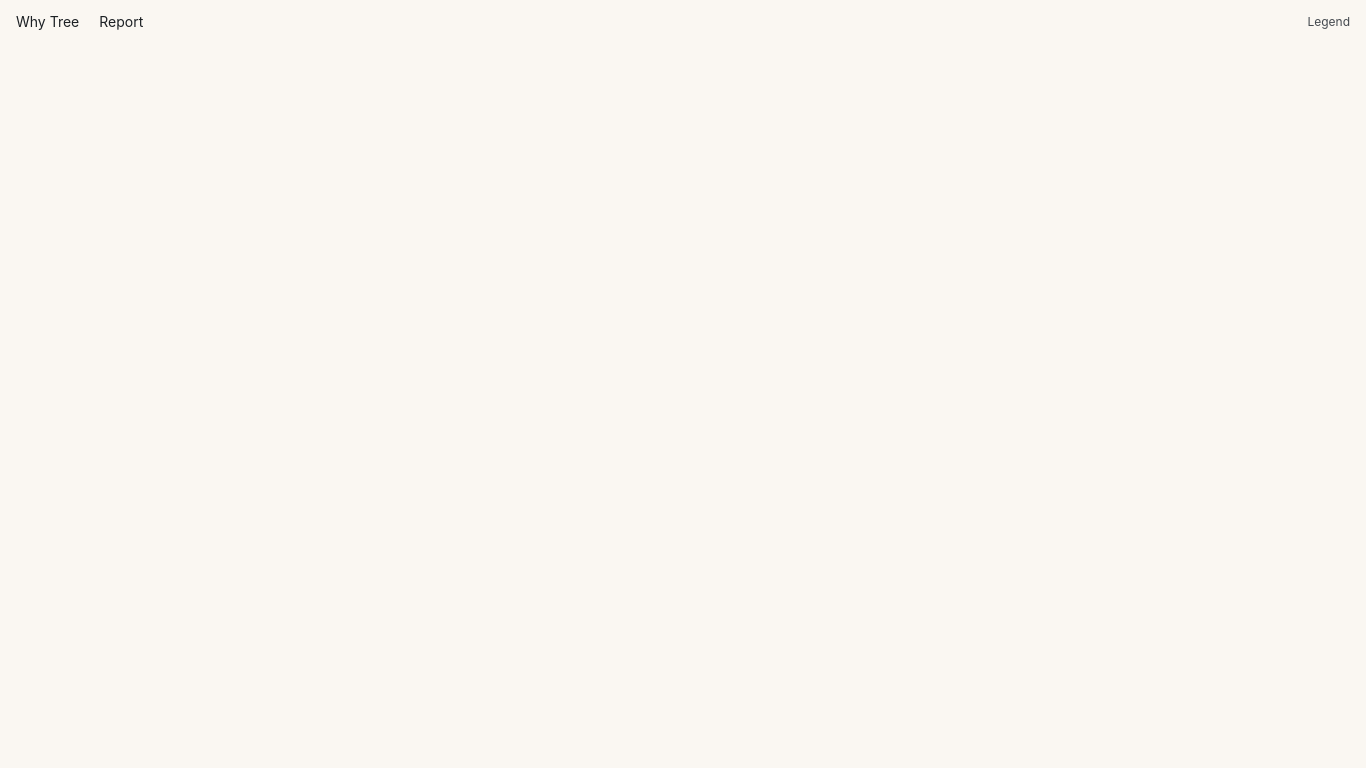
it: InvestigationPanel › switches to the report tab on click
The width and height of the screenshot is (1366, 768).
Click the tab "report" at coordinates (121, 22), box [91,8,151,36]
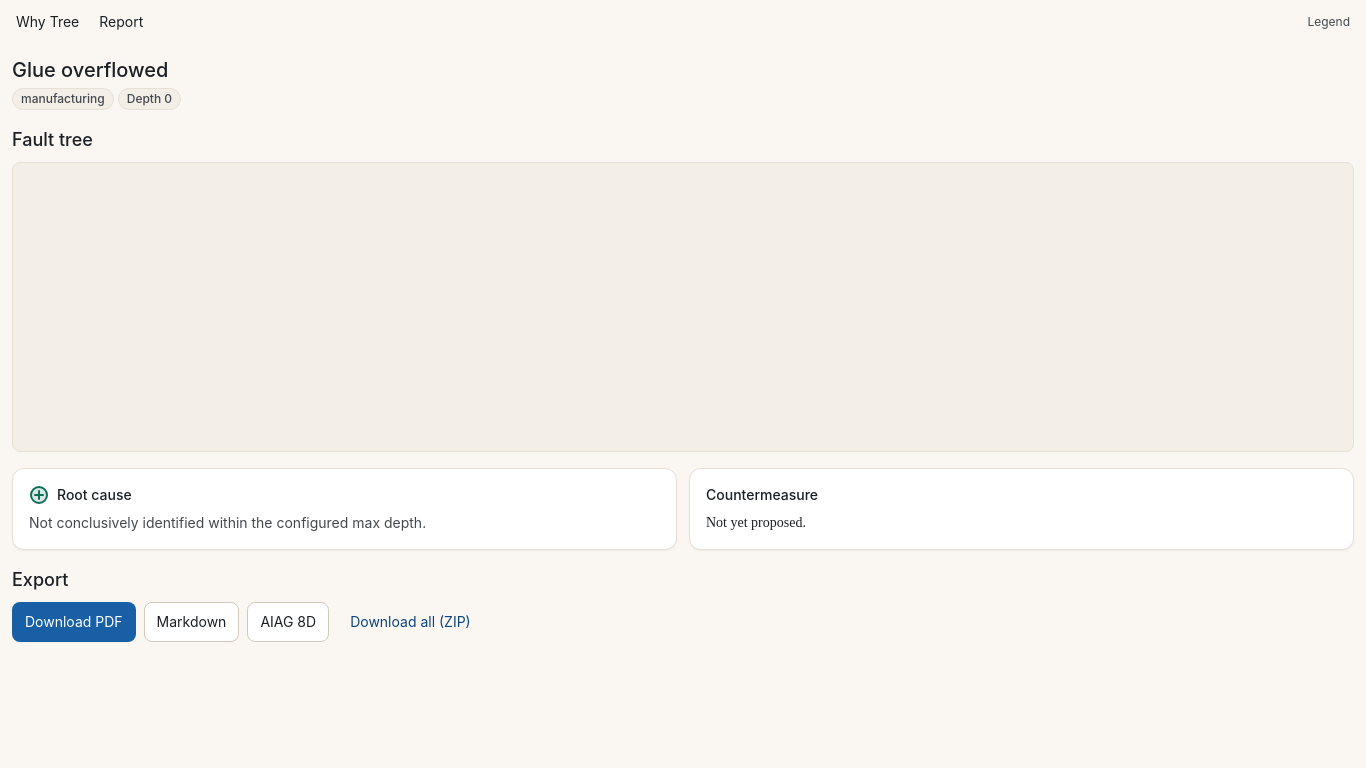
expect the panel shows "Fault tree": met, box [12,129,93,150]
